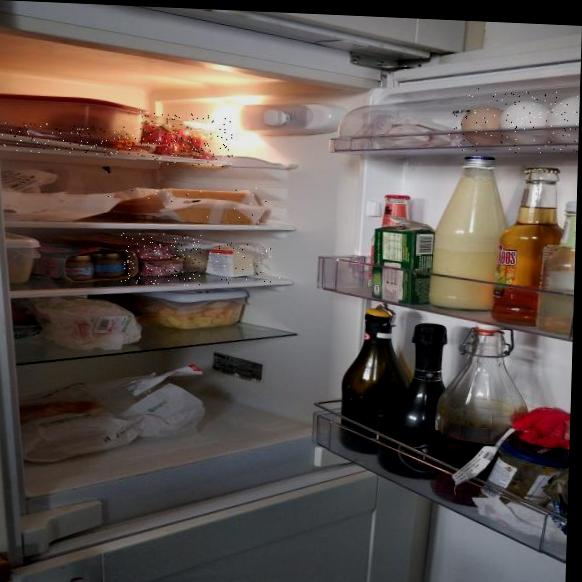bacon: (120, 231, 202, 287)
cheese: (102, 178, 288, 231), (200, 241, 282, 287)
eggs: (448, 86, 580, 156)
ham: (2, 121, 163, 158)
tomatoes: (136, 112, 234, 168)
